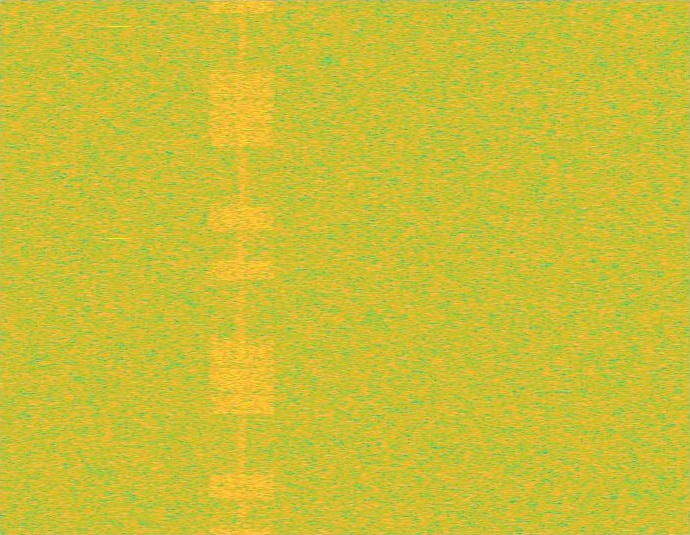DSSS: (237, 0, 246, 534)
LTE: (207, 0, 276, 534)
Radar: (113, 0, 127, 534)
